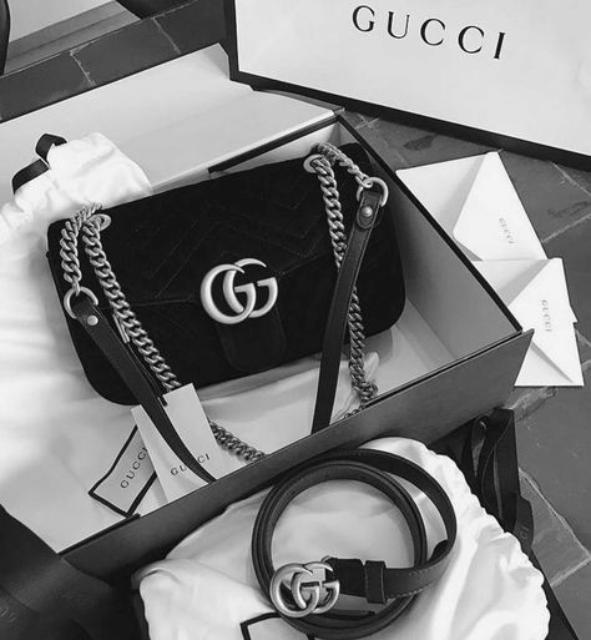Gucci: (348, 0, 514, 68), (188, 258, 296, 330), (243, 547, 347, 619)
